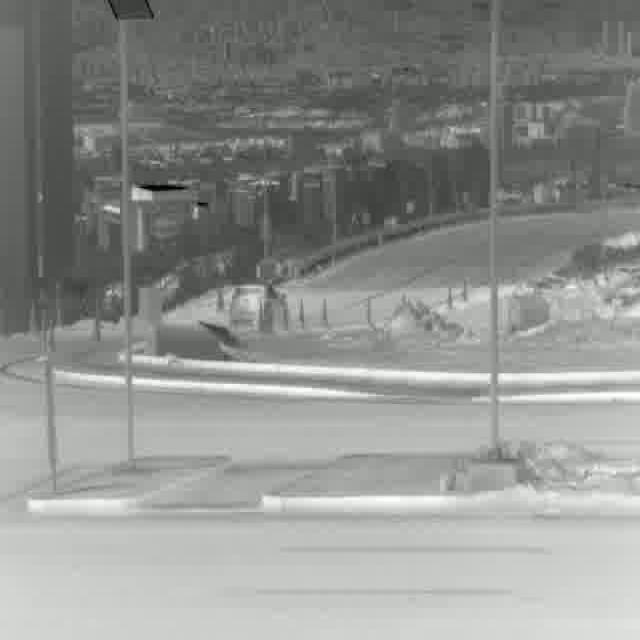Car: (232, 280, 290, 332)
